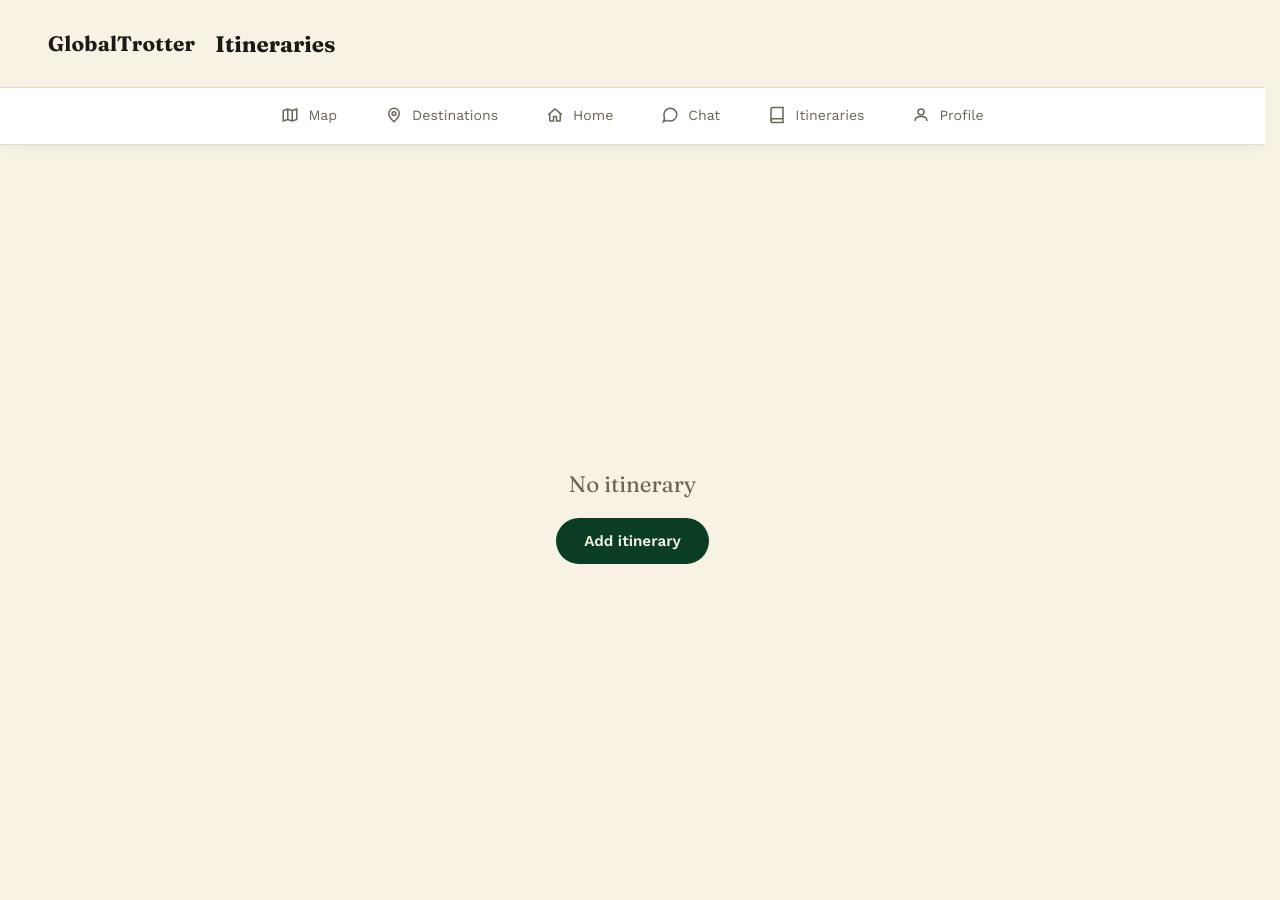
Test: Itineraries › opens the add itinerary form from the empty state button
Step 1. Click the button "Add itinerary" → [633, 541], box [556,518,709,564]
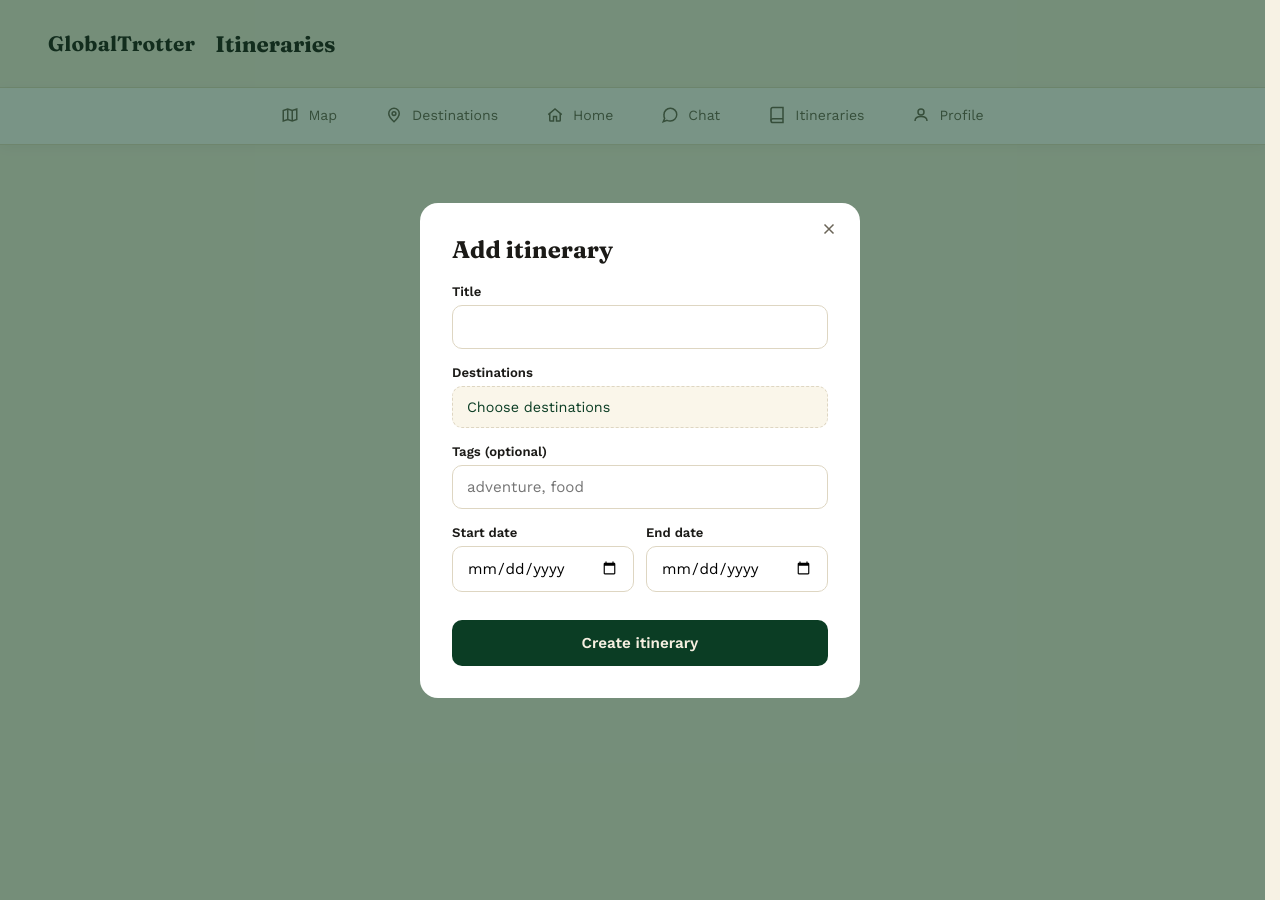
expect the dialog "Add itinerary" is shown: met, box [420,202,860,698]
